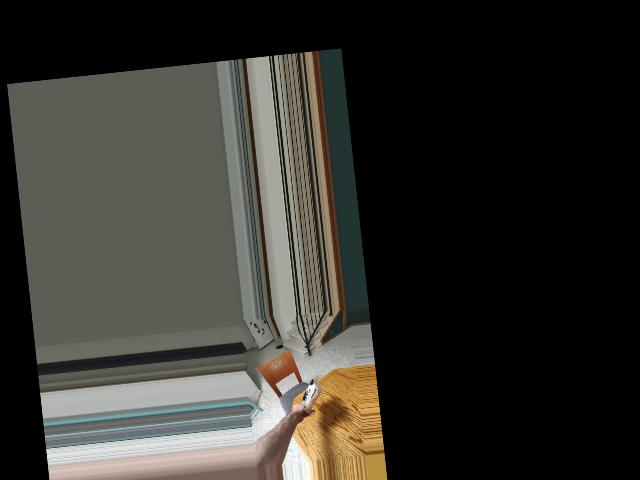cheese: (297, 377, 324, 414)
